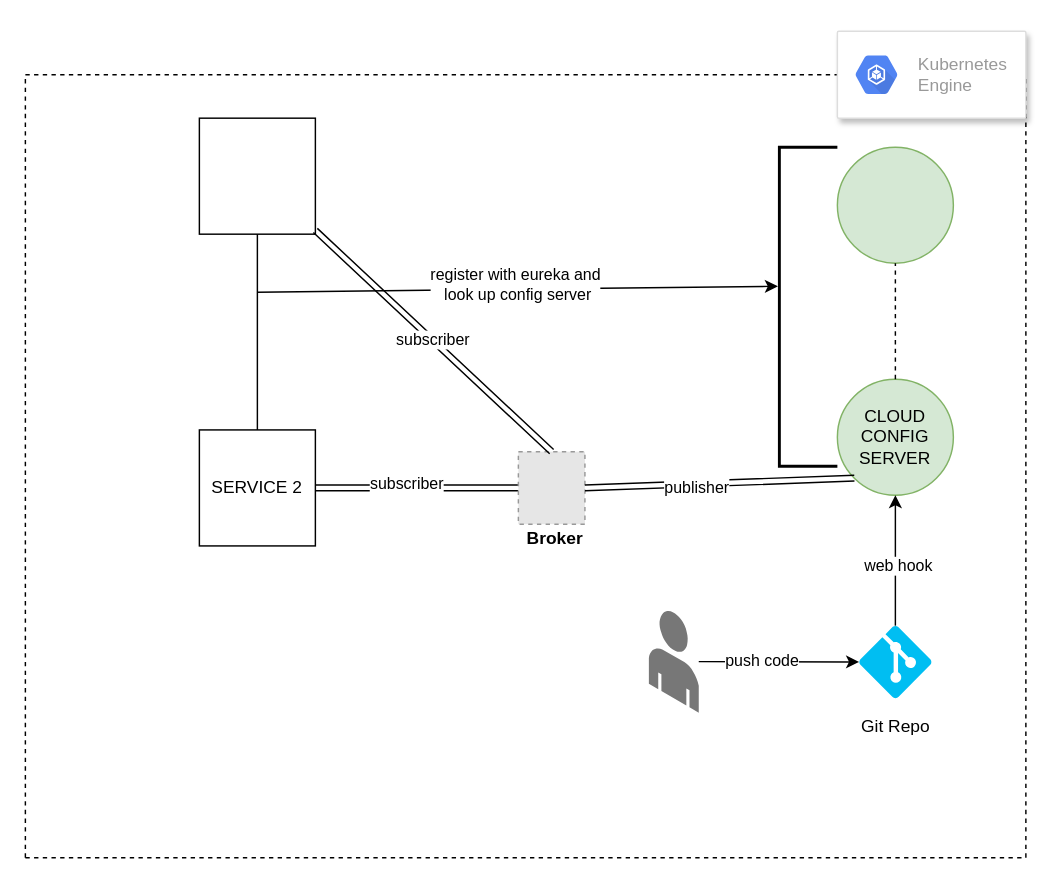
The diagram is 1060 pixels wide and 885 high, and some of its shapes have lost their labels. Grey dashed boxes stand in for pictures. Here are the shapes that lost their labels. From the top down, the centre of each, then its label:
the point at 256,175: SERVICE 1
the point at 894,204: EUREKA DISCOVERY SERVER
